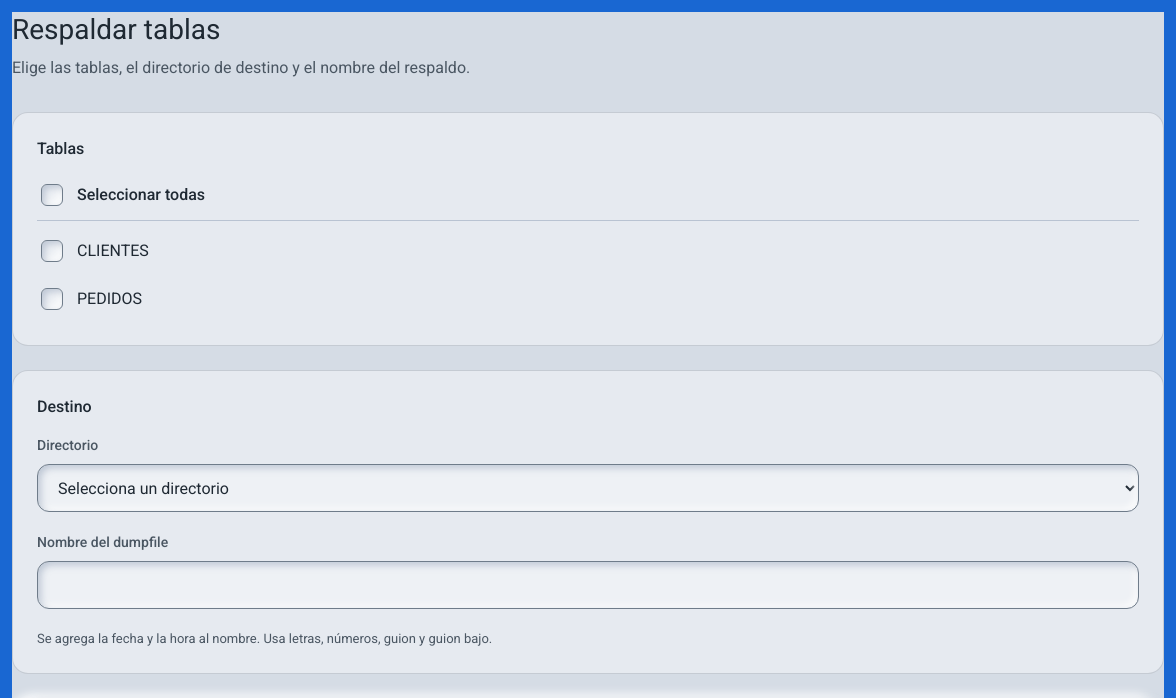
Test: pantalla de respaldo de tablas › «Seleccionar todas» marca y desmarca todas las tablas
expect the checkbox labelled "CLIENTES" is shown: met, box [41, 240, 63, 262]
Click the checkbox labelled "Seleccionar todas" at coordinates (52, 194), box [41, 184, 63, 206]
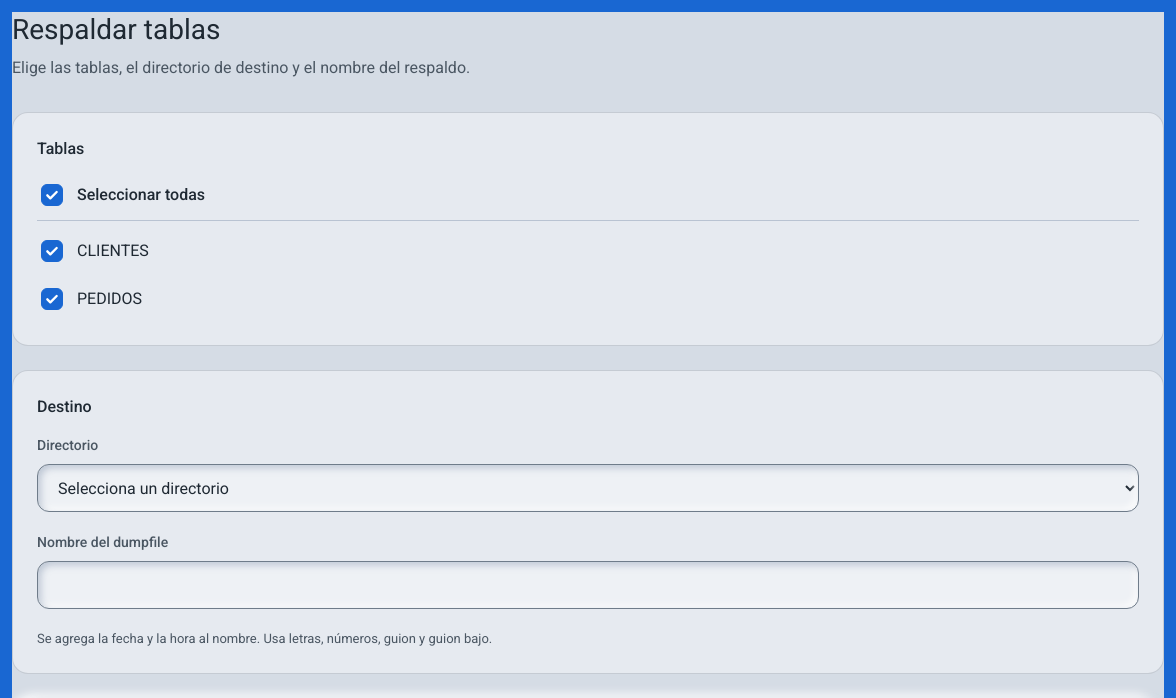
expect the checkbox labelled "CLIENTES" is checked: met, box [41, 240, 63, 262]
expect the checkbox labelled "PEDIDOS" is checked: met, box [41, 288, 63, 310]
Click the checkbox labelled "Seleccionar todas" at coordinates (52, 194), box [41, 184, 63, 206]
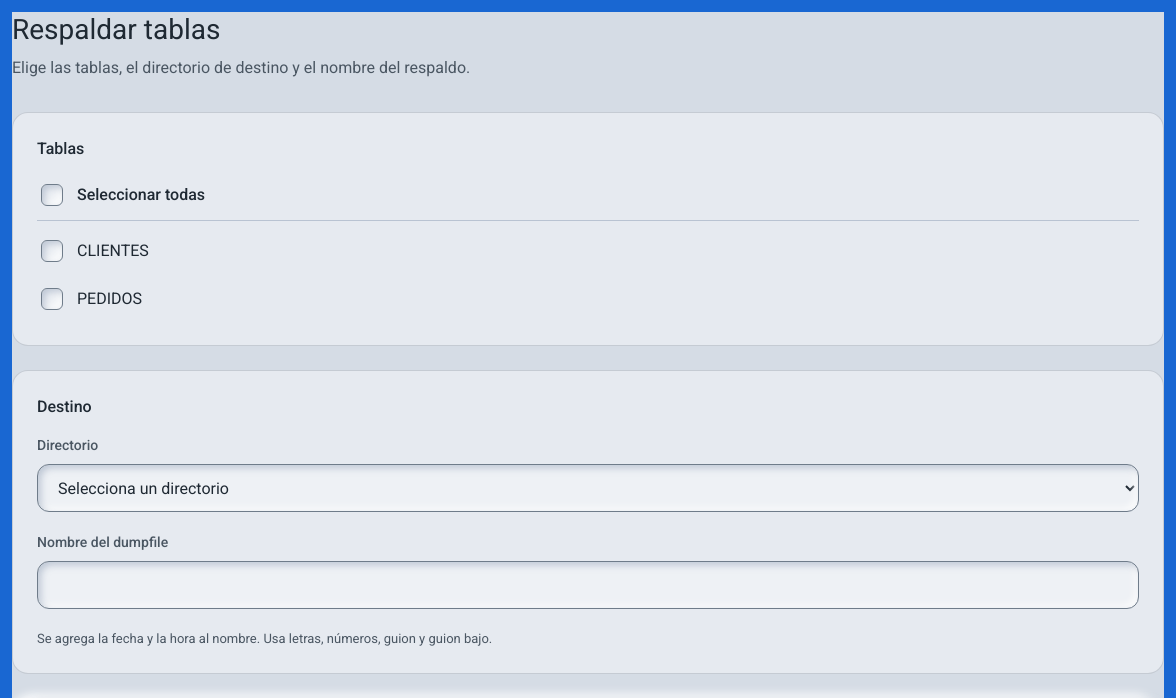
expect the checkbox labelled "CLIENTES" is not checked: met, box [41, 240, 63, 262]
expect the checkbox labelled "PEDIDOS" is not checked: met, box [41, 288, 63, 310]
